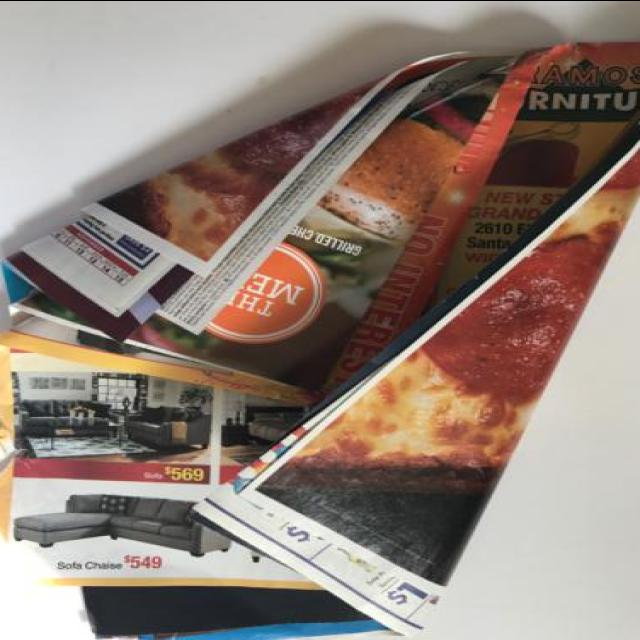kertas: (0, 41, 640, 640)
